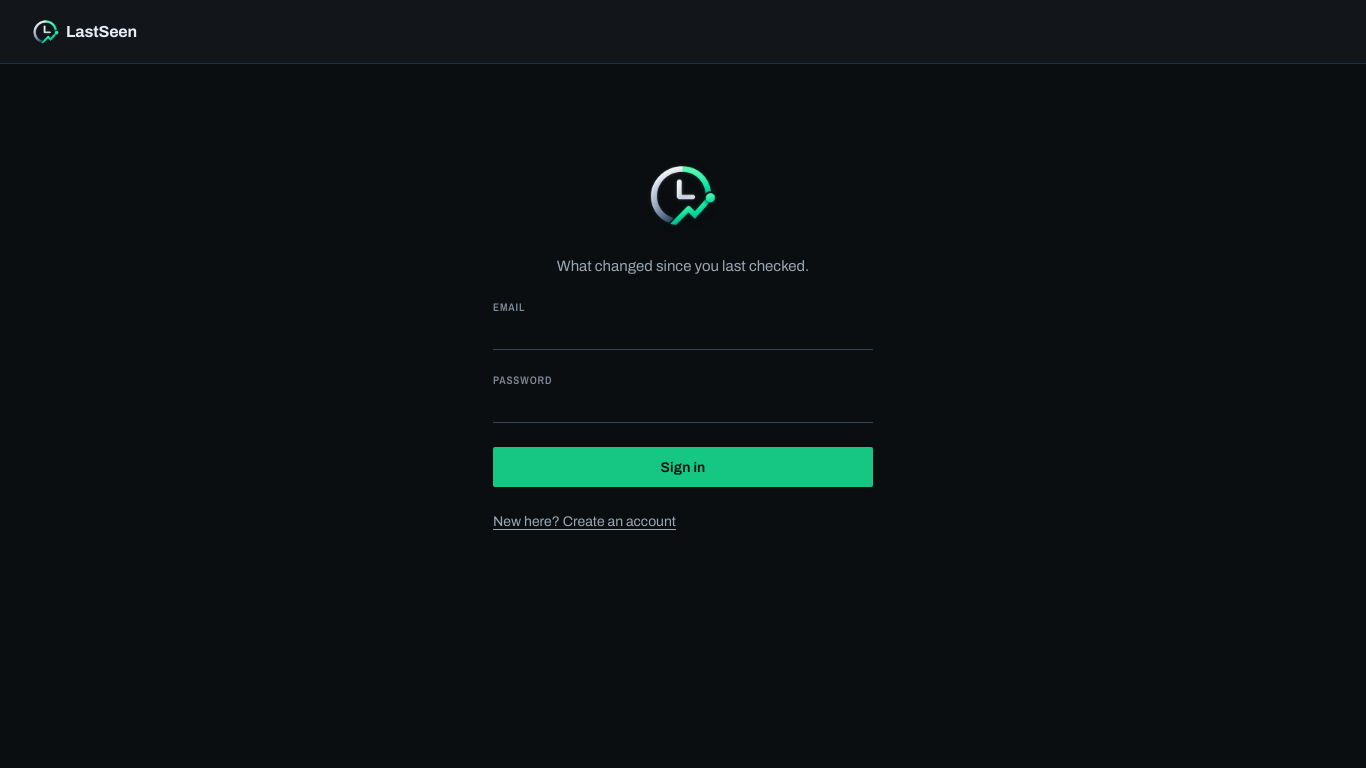
Test: SignInView (T-UI-2) › labels the register-mode submit button "Create account" and the sign-in one "Sign in"
The image size is (1366, 768).
Check: the button "Sign in" is shown, box x1=493 y1=447 x2=873 y2=487
Click the button "New here? Create an account" at (584,522), box x1=493 y1=511 x2=676 y2=532
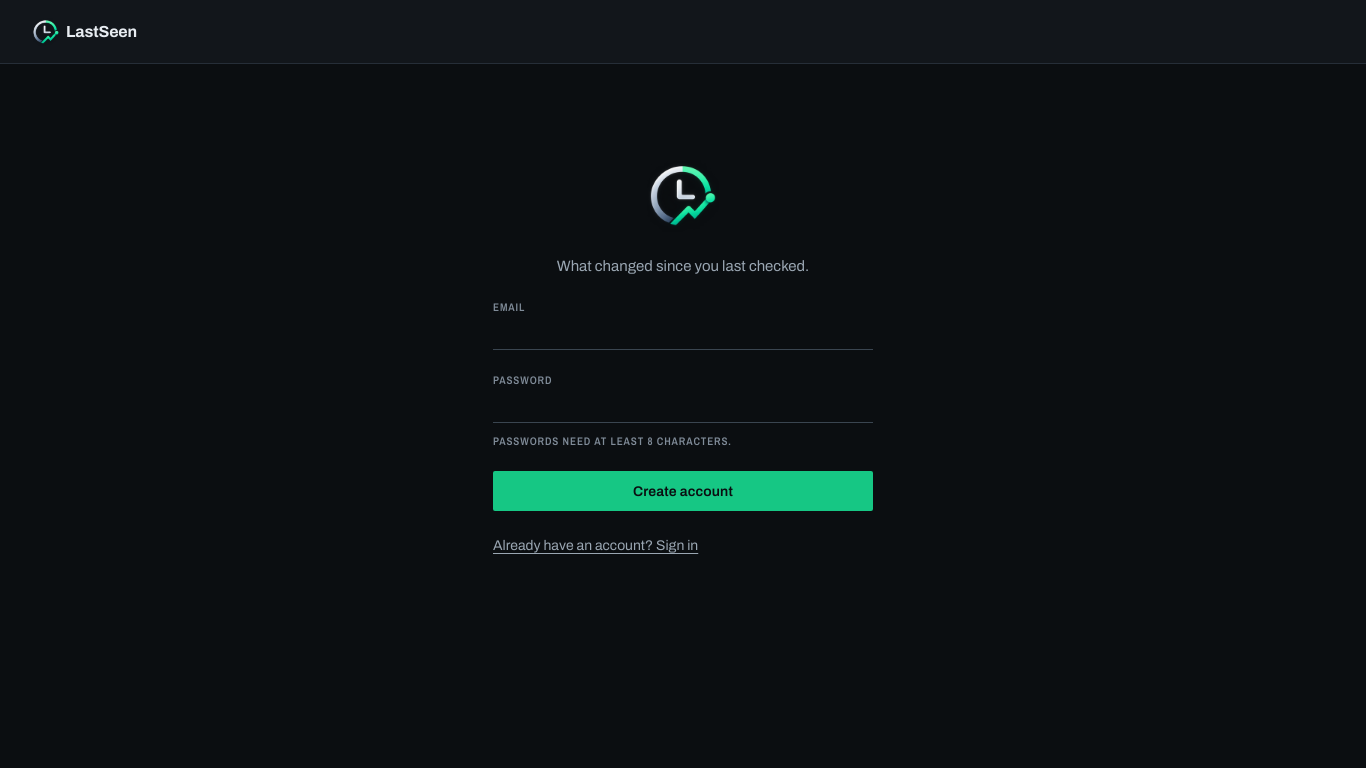
Check: the button "Create account" is shown, box x1=493 y1=471 x2=873 y2=511
